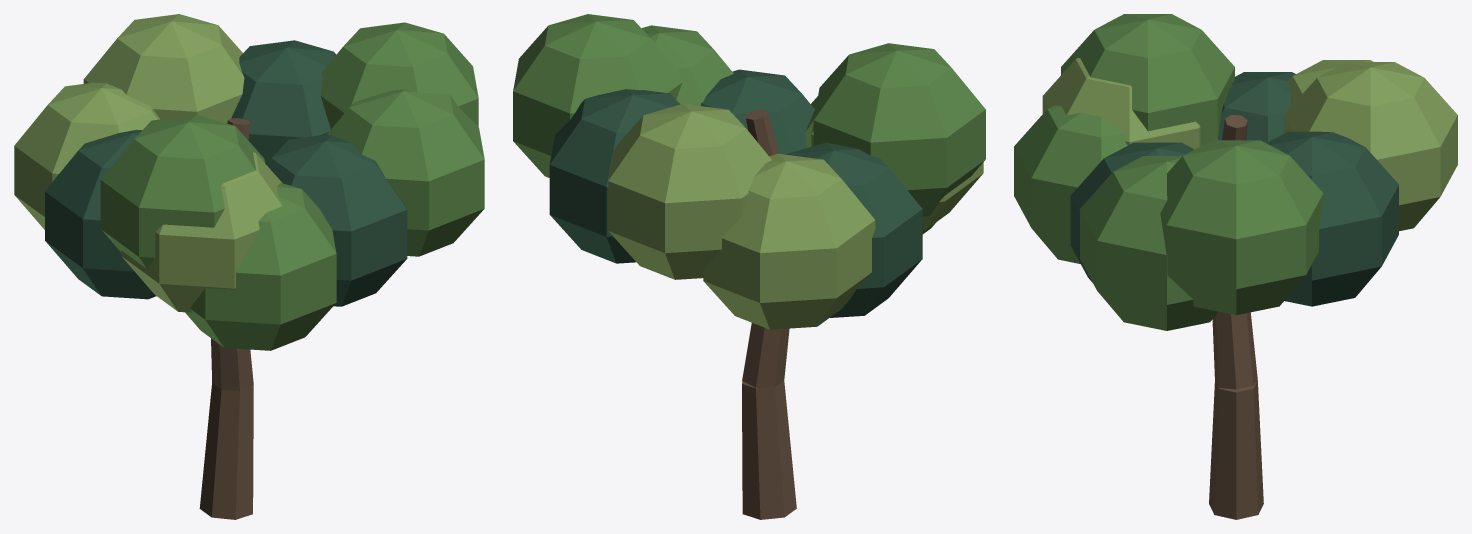
The model's file is nature-oak.lod0.glb.
3 views of the same model, side by side, from view 1: azimuth 30°, elevation 25°; view 2: azimuth 150°, elevation 25°; view 3: azimuth 270°, elevation 25° (orthographic).
Parts seen in each view (by area): view 1: nature-oak__body; view 2: nature-oak__body; view 3: nature-oak__body.
Part boxes in pixels (bbox=[...]): nature-oak__body: bbox=[14, 14, 484, 519]; nature-oak__body: bbox=[513, 14, 985, 519]; nature-oak__body: bbox=[1014, 14, 1457, 519].
Size of the model in its own units: 4.96 by 5.26 by 4.73.
